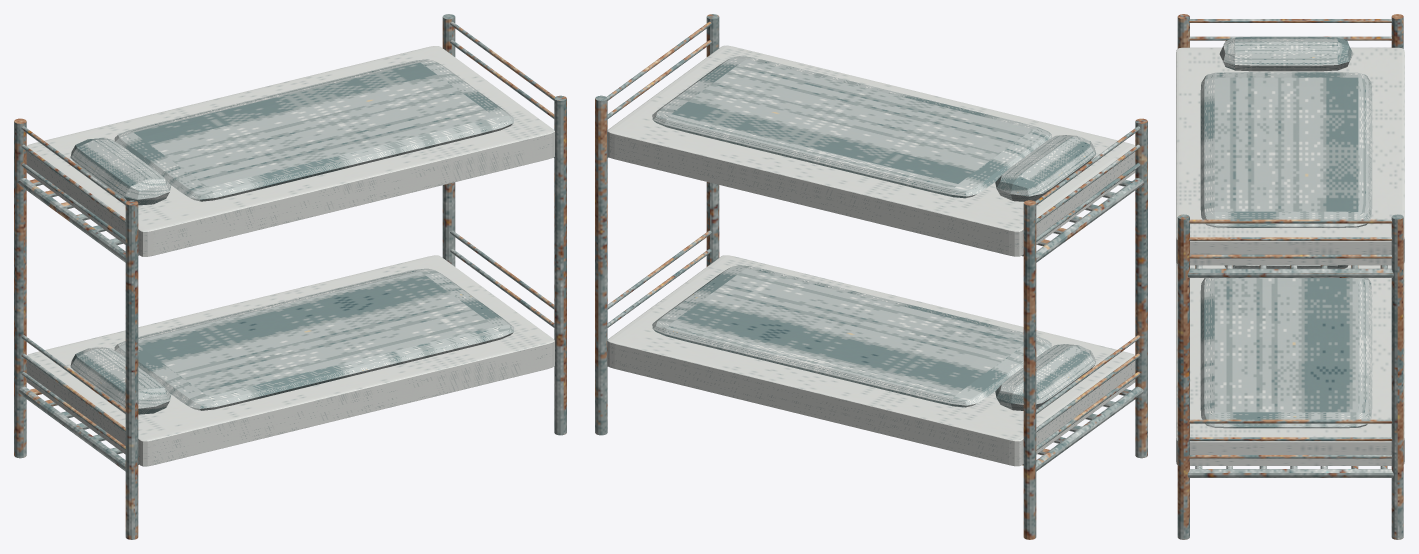
The model's file is bunkbed.glb.
The picture shows the model from 3 angles, left to right: view 1: azimuth 30°, elevation 25°; view 2: azimuth 150°, elevation 25°; view 3: azimuth 270°, elevation 25°; orthographic projection. The views are drawn at different scales.
Visible parts, largest first — view 1: Cube.005, Cube.003, Cube.001, Cube, Cylinder, Cube.004, Cube.002; view 2: Cube.005, Cube.003, Cube.001, Cube, Cylinder, Cube.004, Cube.002; view 3: Cube.005, Cube.003, Cylinder, Cube.001, Cube, Cube.004, Cube.002.
Part boxes in pixels (<box>): Cube.005: <box>114,59,514,201</box>; Cube.003: <box>114,268,514,410</box>; Cube.001: <box>26,46,554,256</box>; Cube: <box>26,255,554,466</box>; Cylinder: <box>14,14,566,539</box>; Cube.004: <box>70,138,170,205</box>; Cube.002: <box>70,347,170,414</box>; Cube.005: <box>652,56,1051,198</box>; Cube.003: <box>652,265,1051,407</box>; Cube.001: <box>607,45,1135,256</box>; Cube: <box>607,255,1135,466</box>; Cylinder: <box>595,14,1147,539</box>; Cube.004: <box>995,135,1095,201</box>; Cube.002: <box>995,344,1095,410</box>; Cube.005: <box>1200,72,1372,227</box>; Cube.003: <box>1200,278,1372,428</box>; Cylinder: <box>1177,14,1403,539</box>; Cube.001: <box>1176,47,1404,265</box>; Cube: <box>1176,261,1404,465</box>; Cube.004: <box>1219,36,1353,71</box>; Cube.002: <box>1224,265,1348,268</box>.
Size of the model in its own units: 3.69 by 2.69 by 1.74.
Materials: 3 (3 with a texture image).
